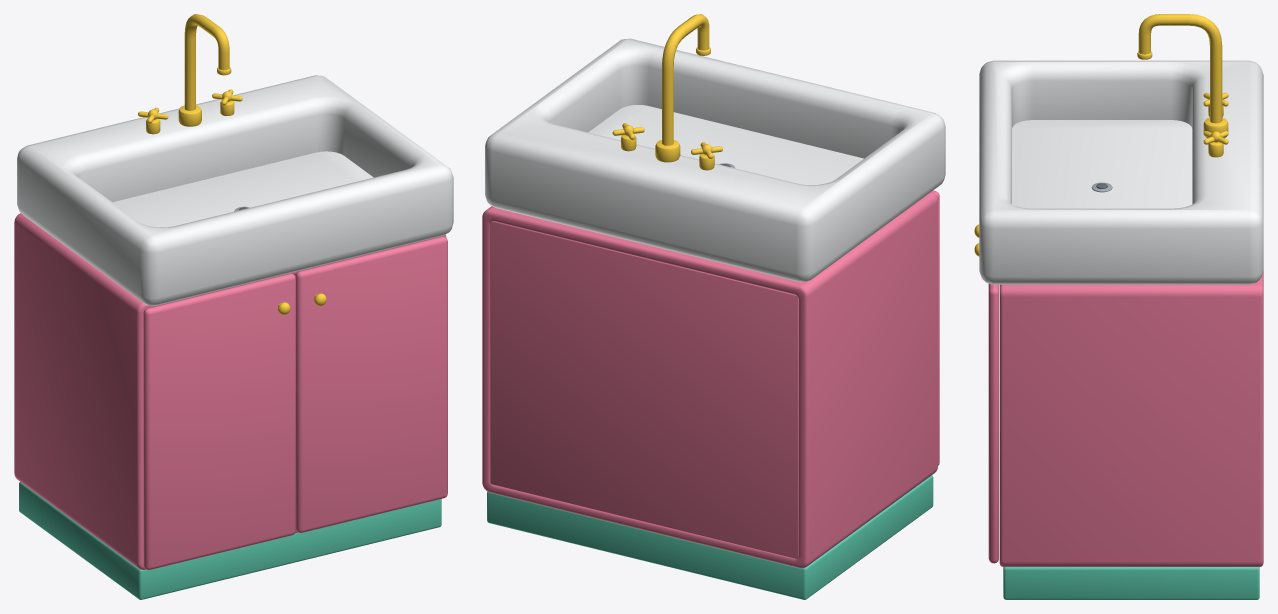
The model's file is armario_cozinha_pia_verde_rosa.glb.
3 views of the same model, side by side, from view 1: azimuth 30°, elevation 25°; view 2: azimuth 150°, elevation 25°; view 3: azimuth 270°, elevation 25° (orthographic). The views are drawn at different scales.
Parts seen in each view (by area): view 1: armario_cozinha_pia_verde_rosa, porta_1, porta_2; view 2: armario_cozinha_pia_verde_rosa; view 3: armario_cozinha_pia_verde_rosa, porta_2.
Boxes of the visible parts, left/top/right/bottom form: armario_cozinha_pia_verde_rosa: left=14, top=14, right=453, bottom=599; porta_1: left=143, top=273, right=295, bottom=569; porta_2: left=295, top=236, right=447, bottom=532; armario_cozinha_pia_verde_rosa: left=482, top=14, right=945, bottom=599; armario_cozinha_pia_verde_rosa: left=979, top=14, right=1263, bottom=599; porta_2: left=974, top=243, right=998, bottom=563.
Bounding box in the file's own units: 0.798 × 1.18 × 0.609.
Materials: 1 (1 with a texture image).
